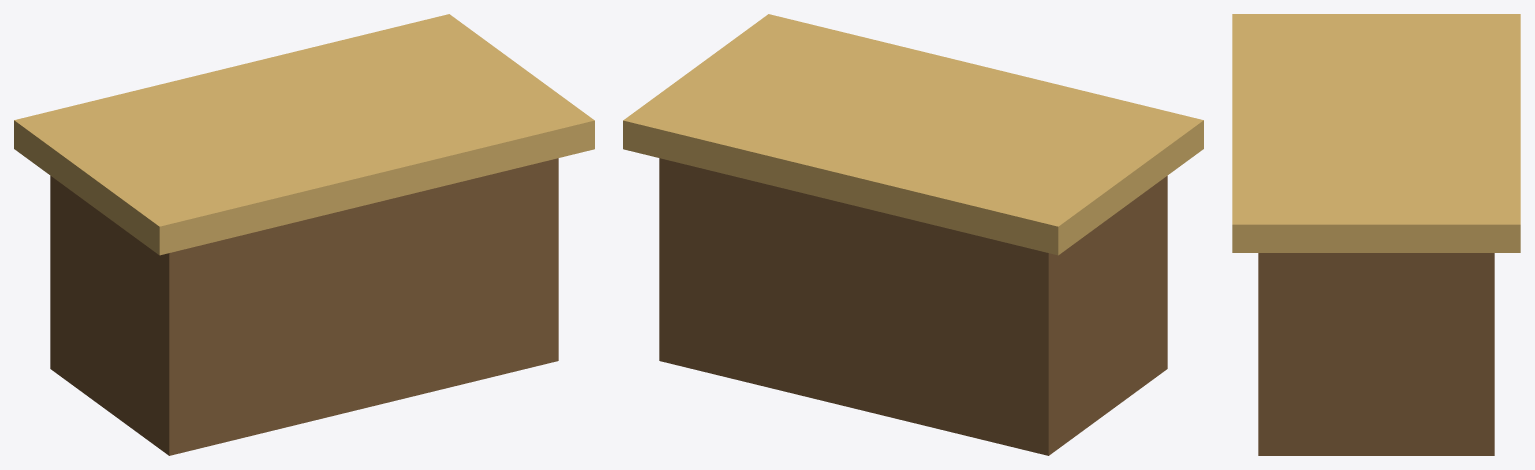
The model's file is donation.glb.
The picture shows the model from 3 angles, left to right: view 1: azimuth 30°, elevation 25°; view 2: azimuth 150°, elevation 25°; view 3: azimuth 270°, elevation 25°; orthographic projection.
Bounding box in the file's own units: 1.9 × 1.02 × 1.1.
